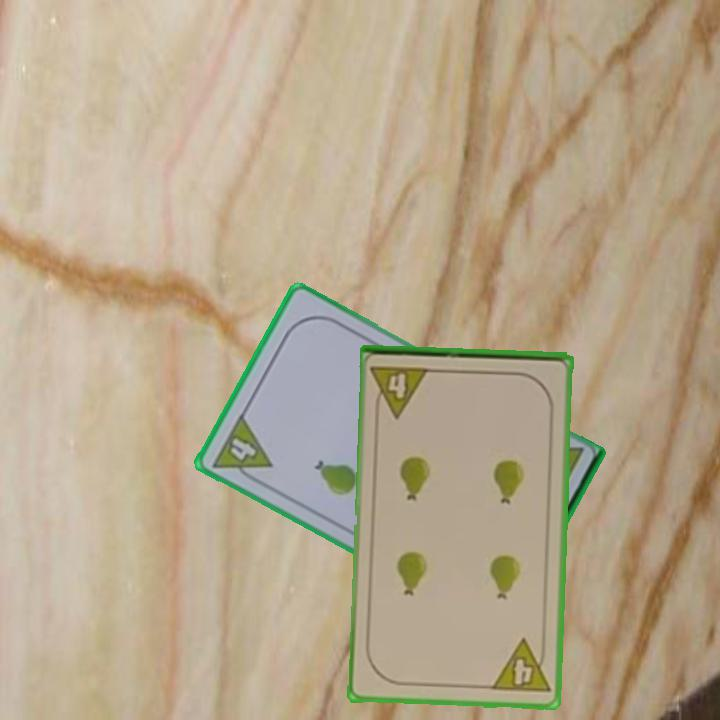4p: (208, 411, 275, 489), (488, 636, 553, 697), (367, 362, 433, 420)
